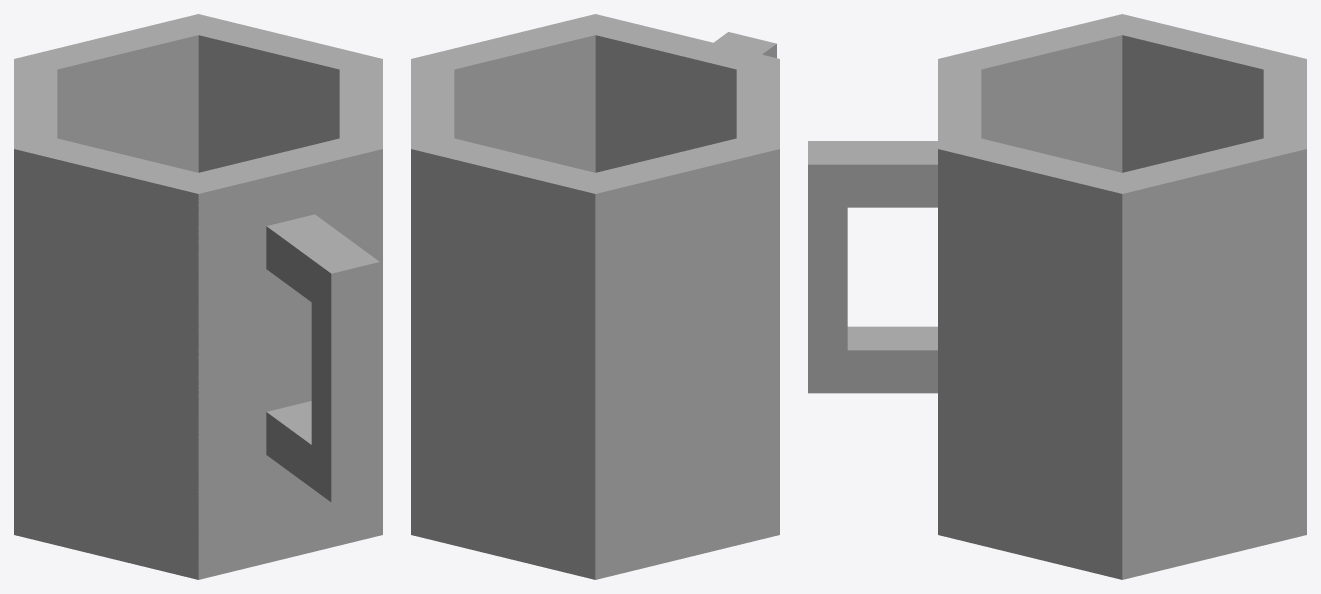
Rendered from model_cup.fbx.
3 views of the same model, side by side, from view 1: azimuth 30°, elevation 25°; view 2: azimuth 150°, elevation 25°; view 3: azimuth 270°, elevation 25° (orthographic).
Visible parts, largest first — view 1: model_cup; view 2: model_cup; view 3: model_cup.
Boxes of the visible parts, x1,y1,x2,y2 form: model_cup: [14, 14, 382, 579]; model_cup: [411, 14, 779, 579]; model_cup: [808, 14, 1306, 579].
Bounding box in the file's own units: 13.67 × 13.67 × 16.01.
1 material, 1 textured.
